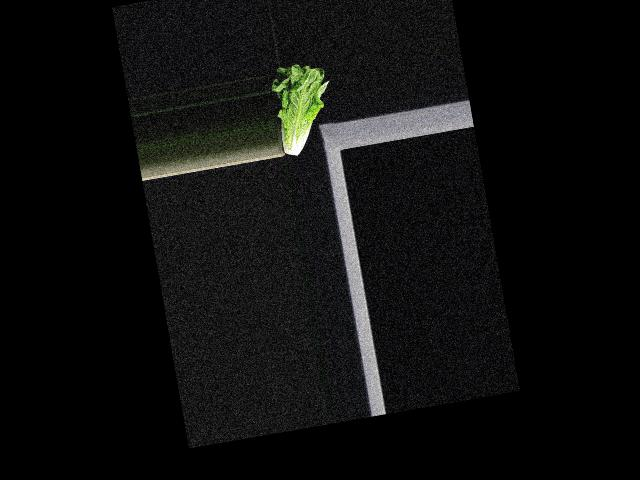lettuce: (267, 57, 340, 158)
